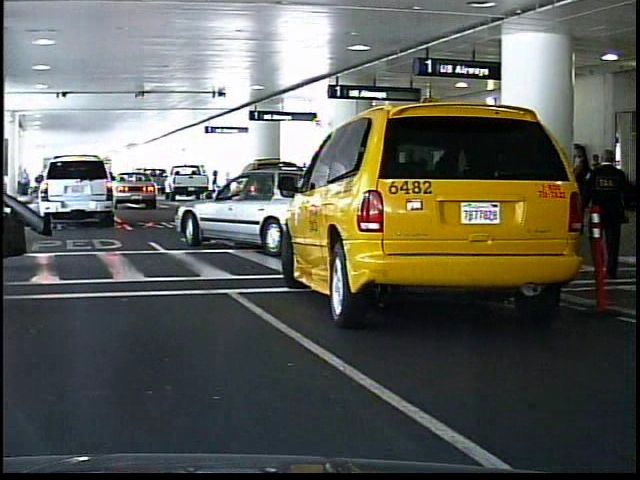person: (585, 148, 630, 283), (561, 139, 596, 269)
